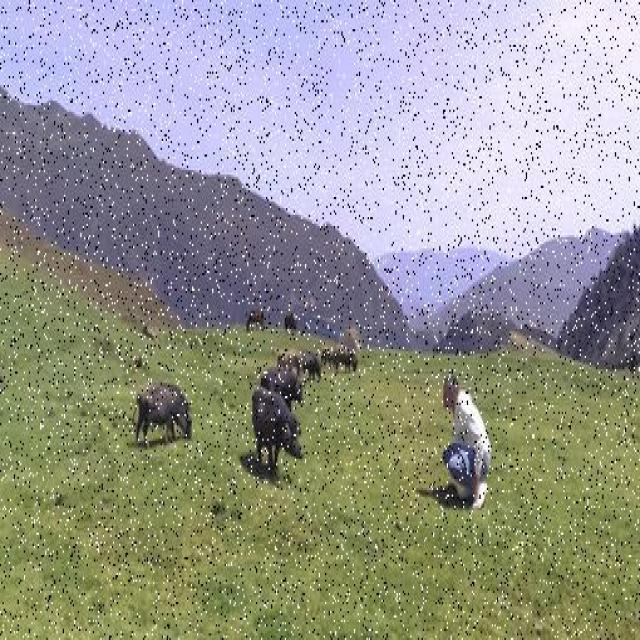fall: (434, 374, 500, 504)
